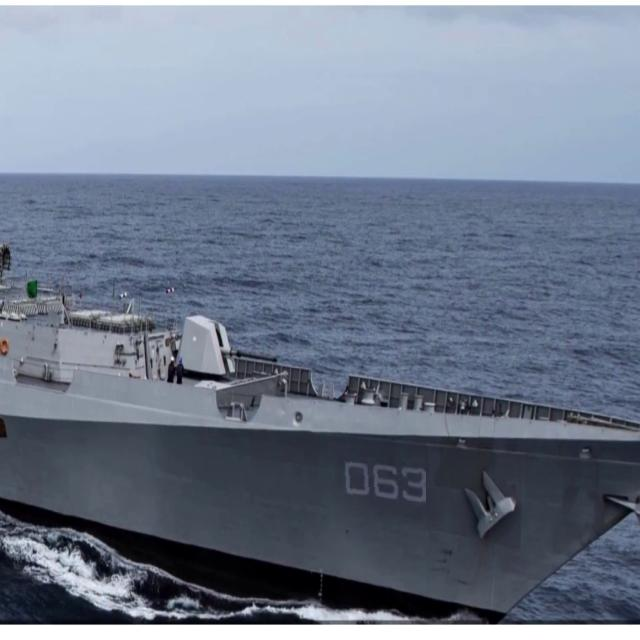OCR: (338, 457, 426, 513)
